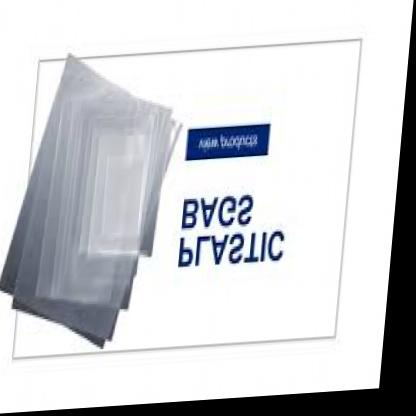Plastic: (0, 32, 204, 374)
